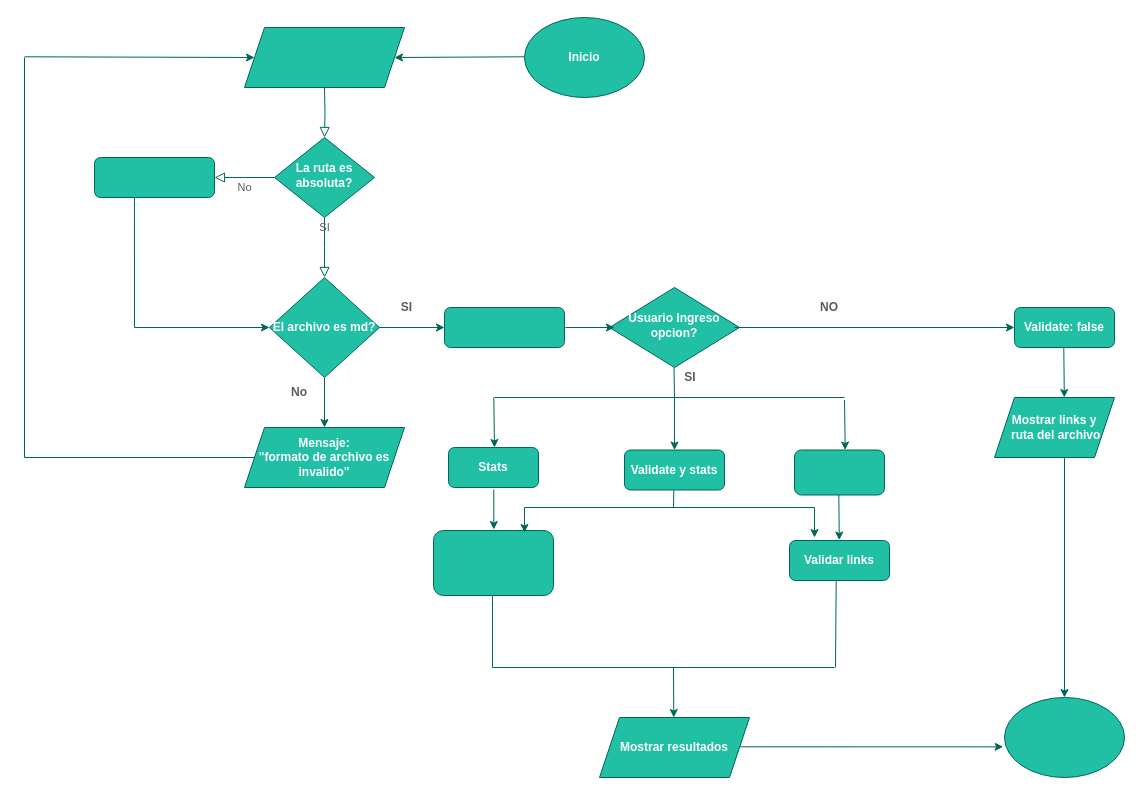
The diagram is 1142 pixels wide and 803 high, and some of its shapes have lost their labels. Each missing label, with the centre of its shape:
"Convertirla en ruta absoluta" goes at (x=154, y=177).
"FIN" goes at (x=1064, y=737).
"Obtener estadisticas" goes at (x=493, y=563).
"obtener links del archivo" goes at (x=504, y=327).
"Usuario ingresa ruta de archivo y opcion" goes at (x=324, y=57).
"Validate: true" goes at (x=839, y=472).
